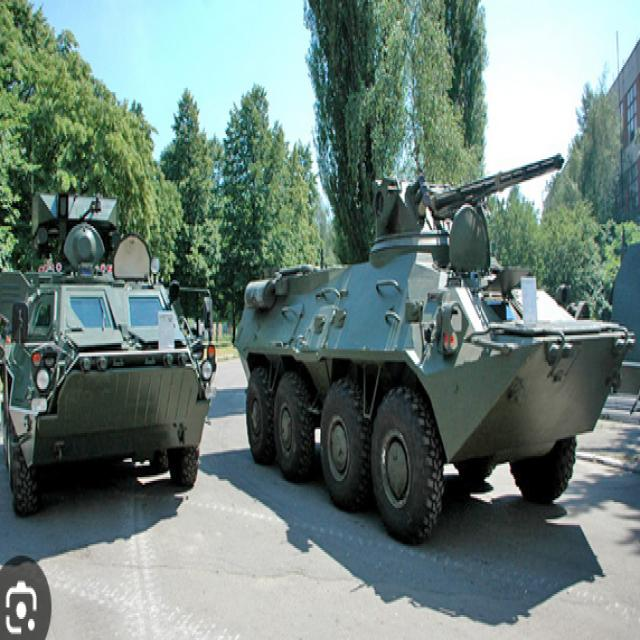MIL_APC: (233, 198, 627, 558), (3, 238, 222, 514)
